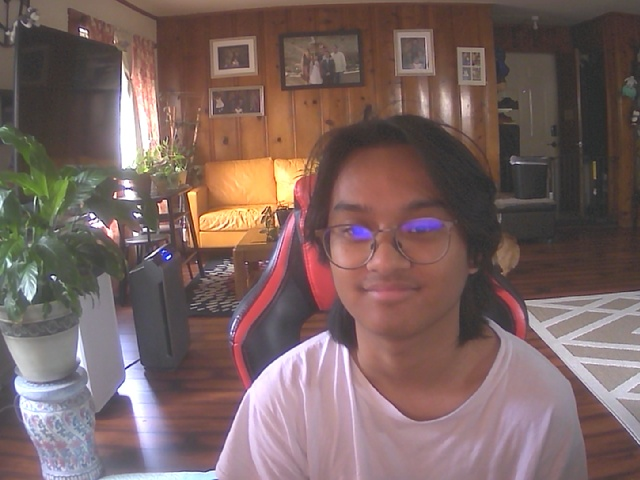happy: (307, 125, 490, 342)
